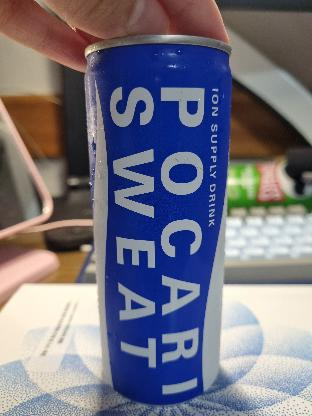Can: (71, 22, 249, 414)
